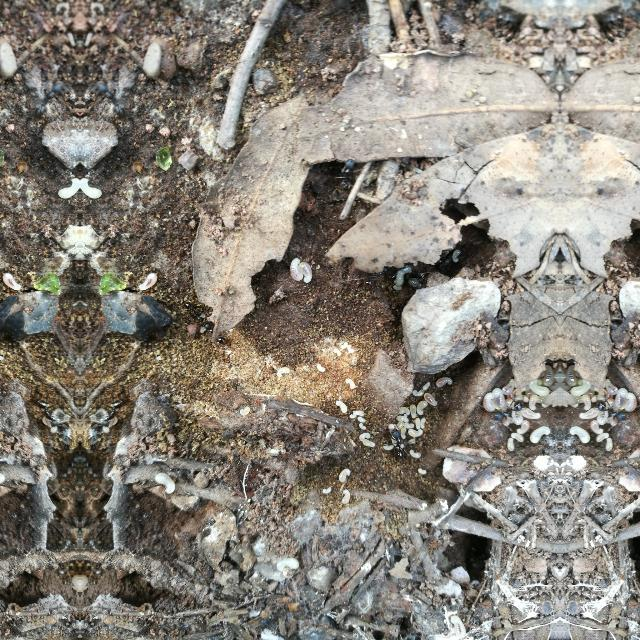Apheanogaster: (93, 75, 131, 118), (29, 75, 67, 118), (492, 398, 524, 427), (596, 398, 628, 427), (362, 260, 392, 290), (200, 318, 228, 348), (388, 426, 408, 464), (337, 157, 359, 189), (182, 296, 202, 324), (542, 353, 560, 375), (560, 353, 578, 375)
